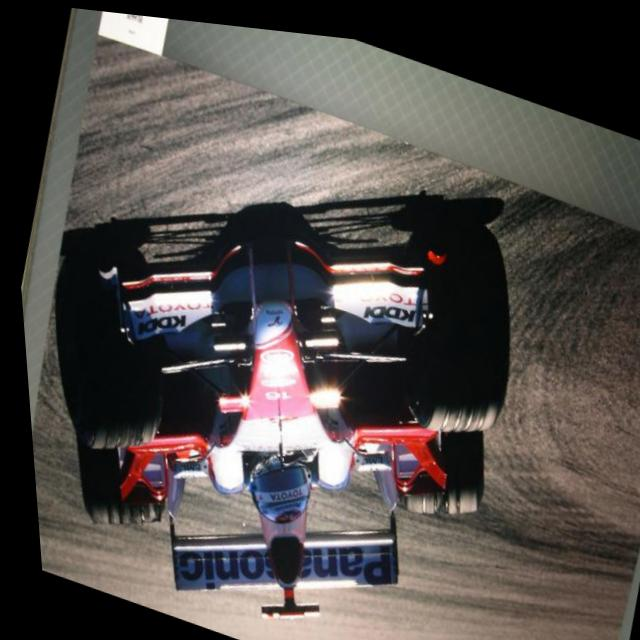qrcode: (126, 12, 145, 20)
